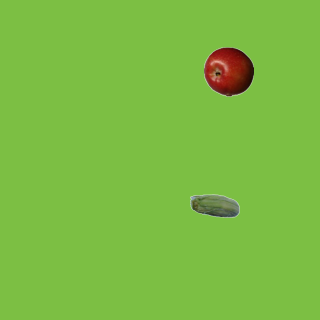Apple Braeburn: (203, 46, 253, 96)
Corn Husk: (189, 182, 239, 232)
